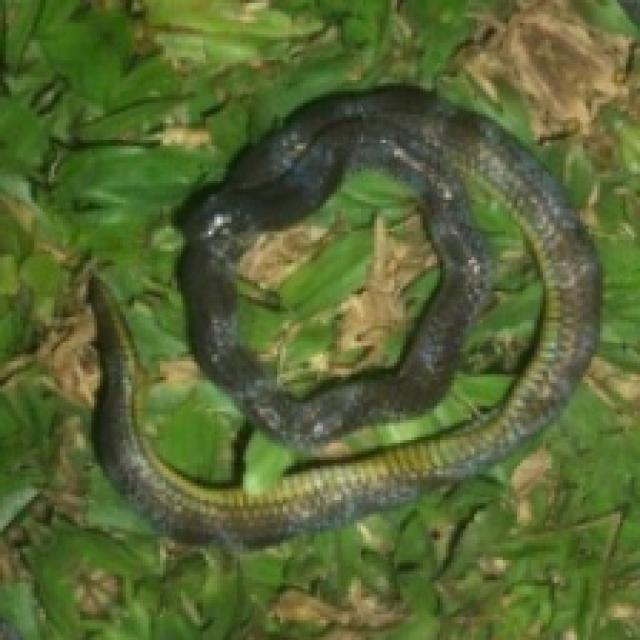gervais worm snake: (91, 86, 597, 543)
